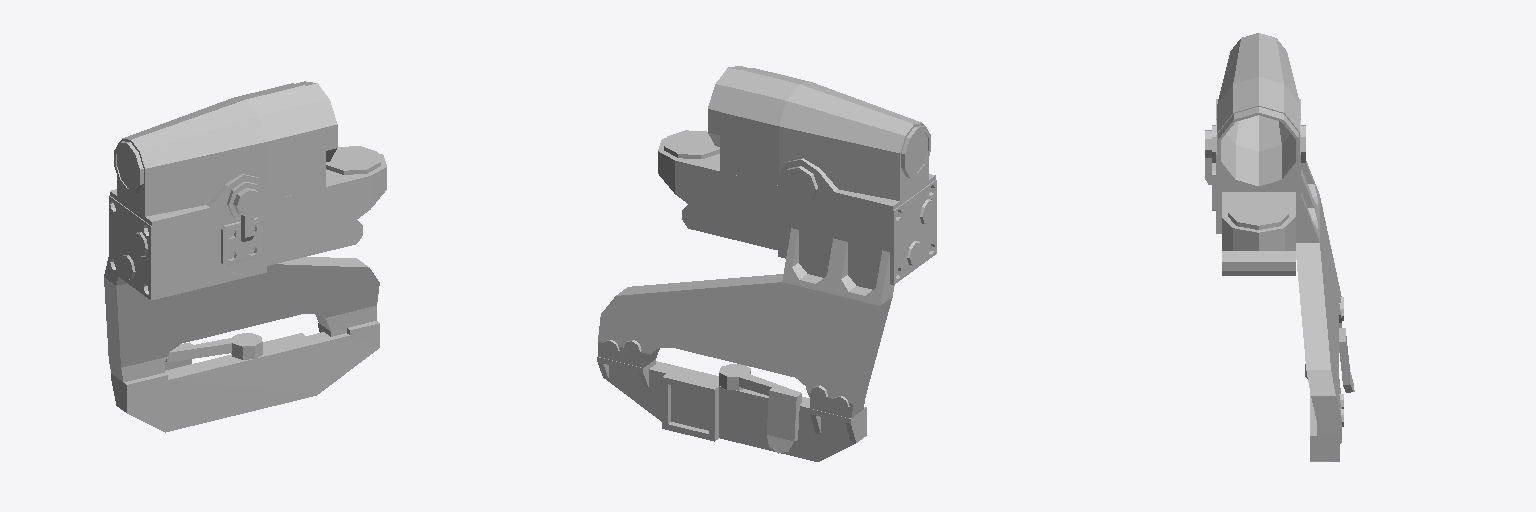
The model's file is scope_obzor.obj.
The picture shows the model from 3 angles: view 1: azimuth 30°, elevation 25°; view 2: azimuth 150°, elevation 25°; view 3: azimuth 270°, elevation 25°; orthographic projection.
Visible parts, largest first — view 1: attachmentModel, overlayModel; view 2: attachmentModel, overlayModel; view 3: attachmentModel.
Boxes of the visible parts, x1,y1,x2,y2 form: attachmentModel: [104, 81, 386, 432]; overlayModel: [117, 146, 137, 188]; attachmentModel: [597, 66, 936, 461]; overlayModel: [907, 131, 927, 173]; attachmentModel: [1205, 33, 1354, 461].
Bounding box in the file's own units: 2.4 × 2.78 × 1.11.